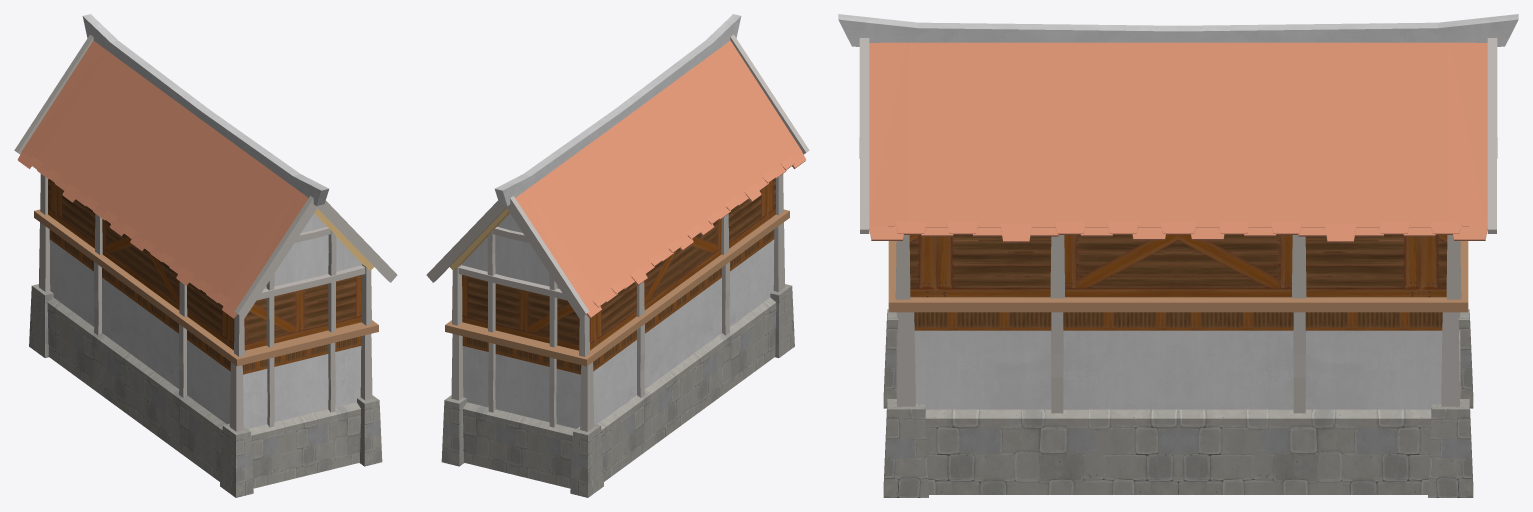
The model's file is Building_A_05.fbx.
The picture shows the model from 3 angles, left to right: view 1: azimuth 30°, elevation 25°; view 2: azimuth 150°, elevation 25°; view 3: azimuth 270°, elevation 25°; orthographic projection. The views are drawn at different scales.
Parts seen in each view (by area): view 1: Building_A_05; view 2: Building_A_05; view 3: Building_A_05.
Boxes of the visible parts, x1,y1,x2,y2 form: Building_A_05: (14, 14, 397, 497); Building_A_05: (426, 14, 809, 497); Building_A_05: (838, 14, 1518, 497).
Bounding box in the file's own units: 722 × 1267 × 1815.
